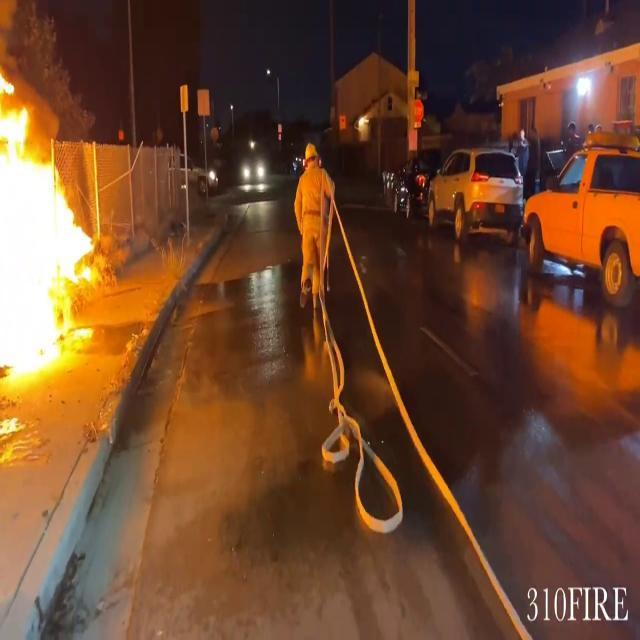Fire: (0, 30, 99, 384)
